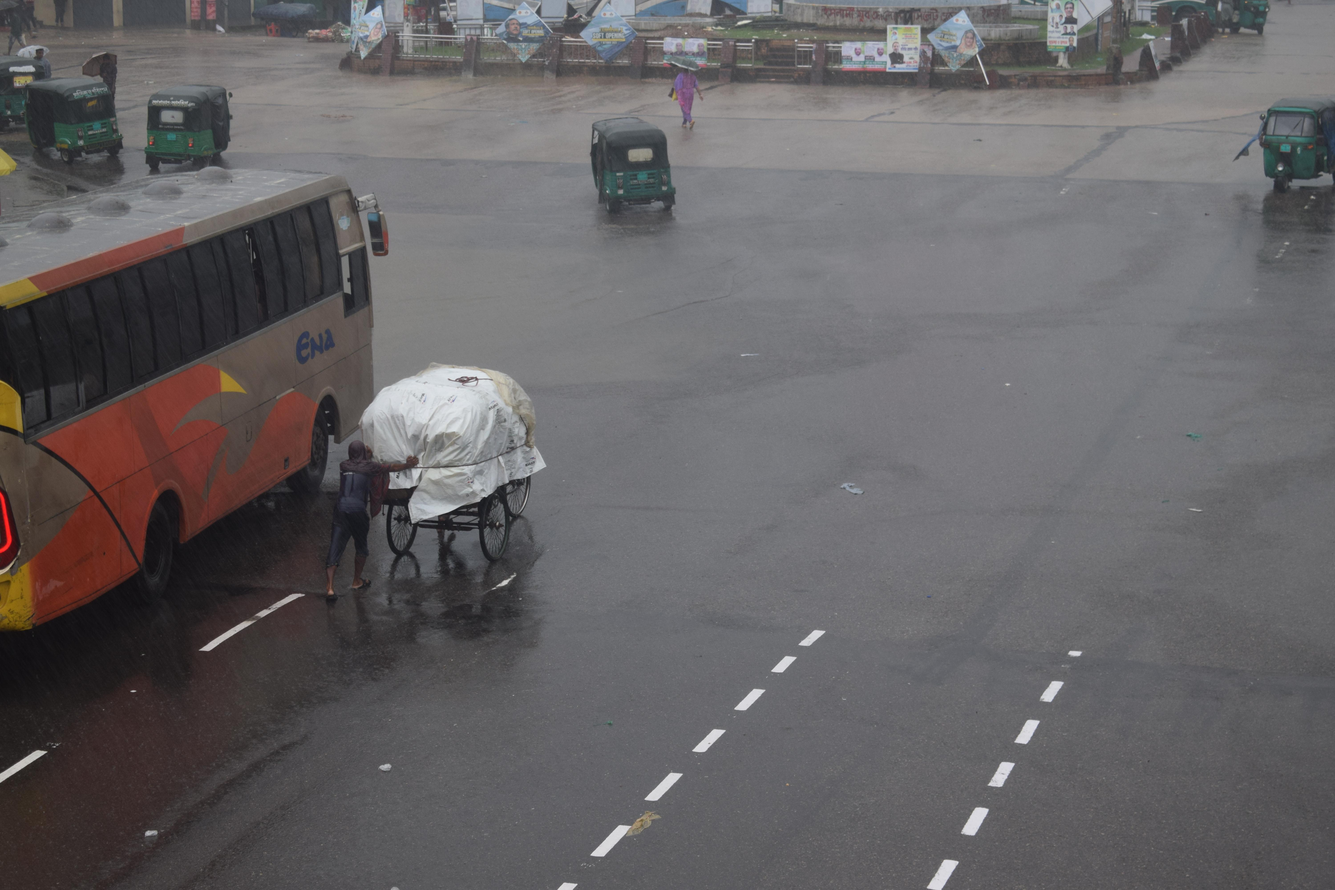Bus: (0, 152, 412, 599)
